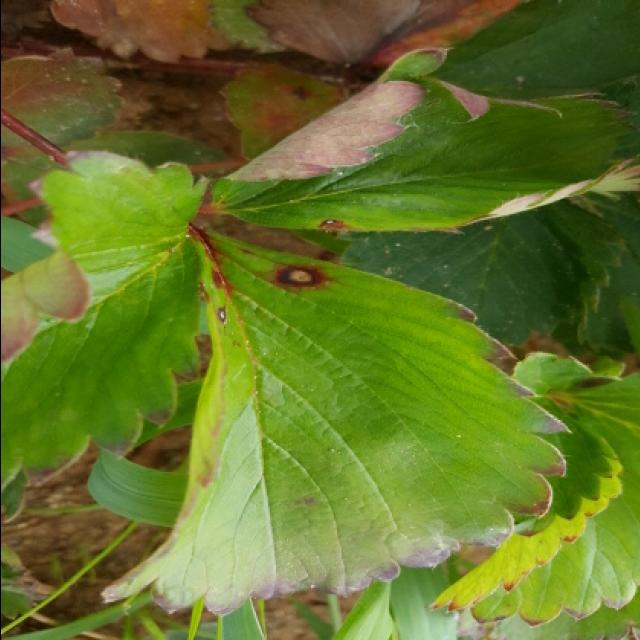Leaf Spot: (97, 215, 571, 618), (204, 46, 640, 235)
